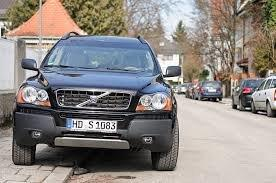license-plates: (67, 119, 117, 133)
